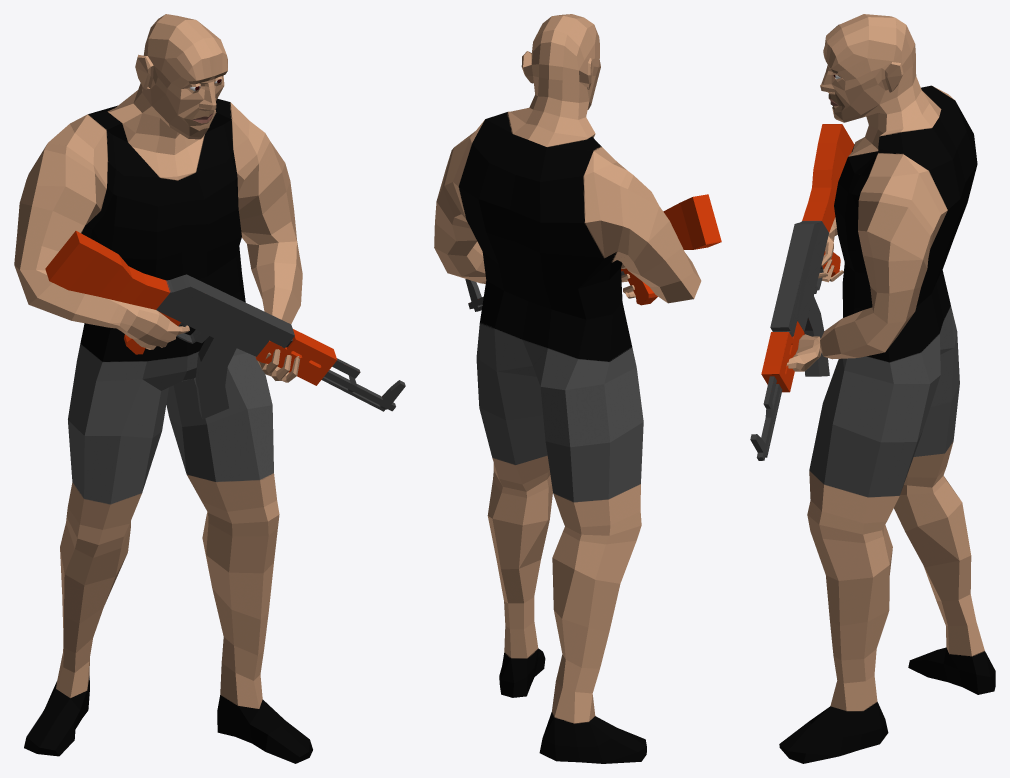
Rendered from PlayerIdle(180).obj.
The picture shows the model from 3 angles, left to right: view 1: azimuth 30°, elevation 25°; view 2: azimuth 150°, elevation 25°; view 3: azimuth 270°, elevation 25°; orthographic projection. The views are drawn at different scales.
Visible parts, largest first — view 1: Plane002, Object001; view 2: Plane002, Object001; view 3: Plane002, Object001.
Boxes of the visible parts, x1,y1,x2,y2 form: Plane002: (14,14,312,763); Object001: (45,231,405,419); Plane002: (434,14,701,763); Object001: (465,194,721,311); Plane002: (779,14,995,763); Object001: (750,124,854,460).
Size of the model in its own units: 810 by 1802 by 570.
